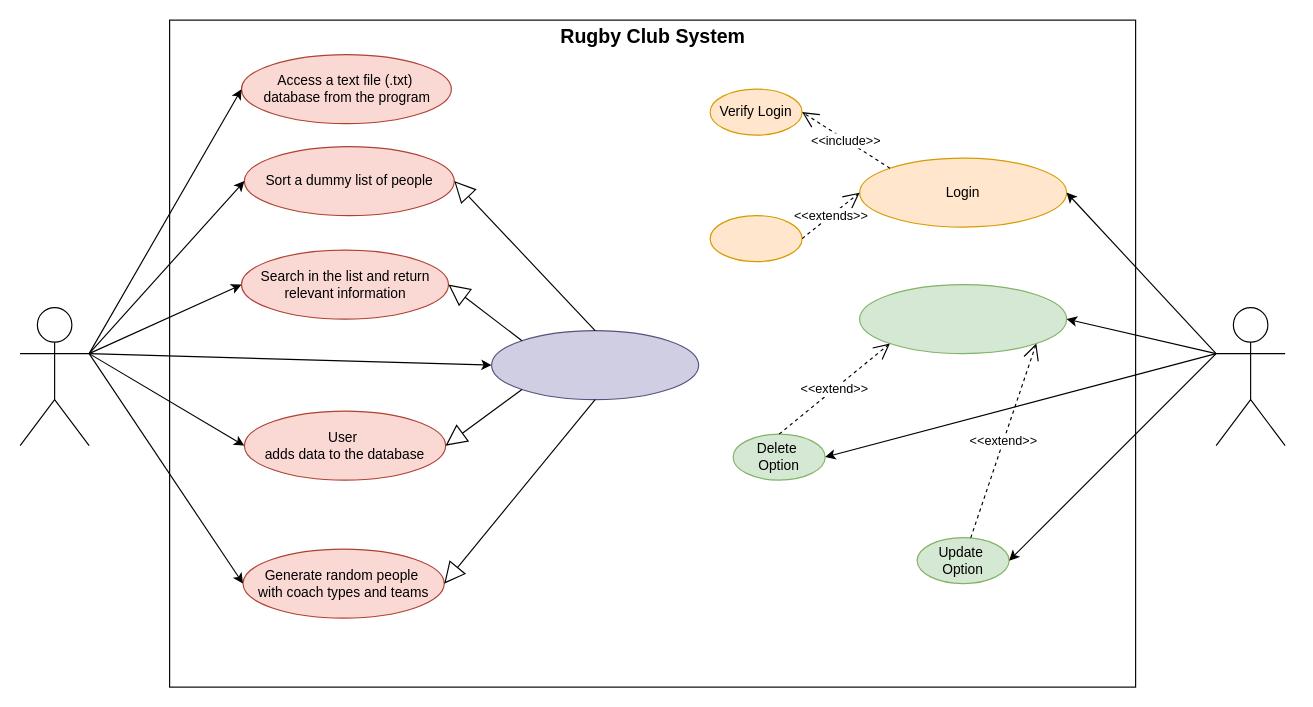
Some shapes in this 1313 by 707 pixel diagram are drawn without their labels. Here are the shapes that lost their labels. From the top down, the centre of each, then its label:
the point at 755,238: Display Error
the point at 962,318: Add Option in the menu
the point at 54,376: User
the point at 594,364: Interact with the main menu
the point at 1250,376: Maintainer
